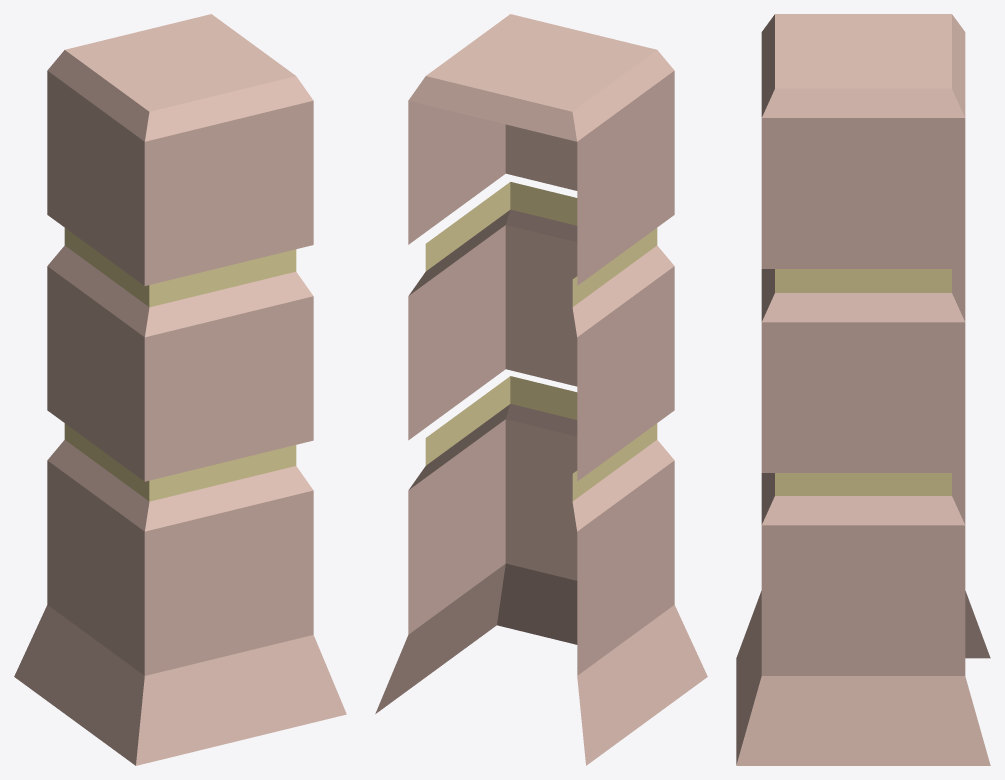
3 views of the same model, side by side, from view 1: azimuth 30°, elevation 25°; view 2: azimuth 150°, elevation 25°; view 3: azimuth 270°, elevation 25° (orthographic). The views are drawn at different scales.
Visible parts, largest first — view 1: Object05; view 2: Object05; view 3: Object05.
Part boxes in pixels (bbox=[...]): Object05: bbox=[14, 14, 346, 765]; Object05: bbox=[375, 14, 707, 765]; Object05: bbox=[736, 14, 990, 765].
Bounding box in the file's own units: 100 × 287 × 100.
